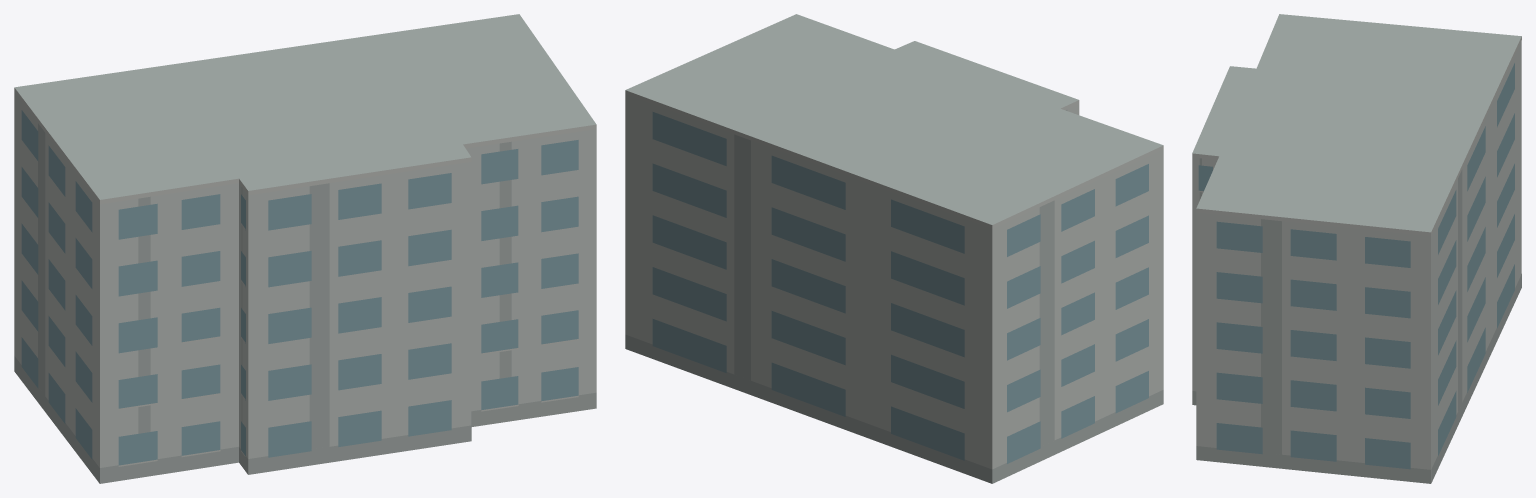
Rendered from survey-upis-32477053.glb.
3 renders of one model, left to right at view 1: azimuth 30°, elevation 25°; view 2: azimuth 150°, elevation 25°; view 3: azimuth 270°, elevation 25°, orthographic. The views are drawn at different scales.
Parts seen in each view (by area): view 1: survey-upis-32477053.tmp; view 2: survey-upis-32477053.tmp; view 3: survey-upis-32477053.tmp.
Part boxes in pixels (box(x1,y1,x2,y2)): survey-upis-32477053.tmp: box(14, 14, 596, 483); survey-upis-32477053.tmp: box(625, 14, 1163, 483); survey-upis-32477053.tmp: box(1192, 14, 1521, 483).
Bounding box in the file's own units: 28.5 × 15.3 × 18.18.
